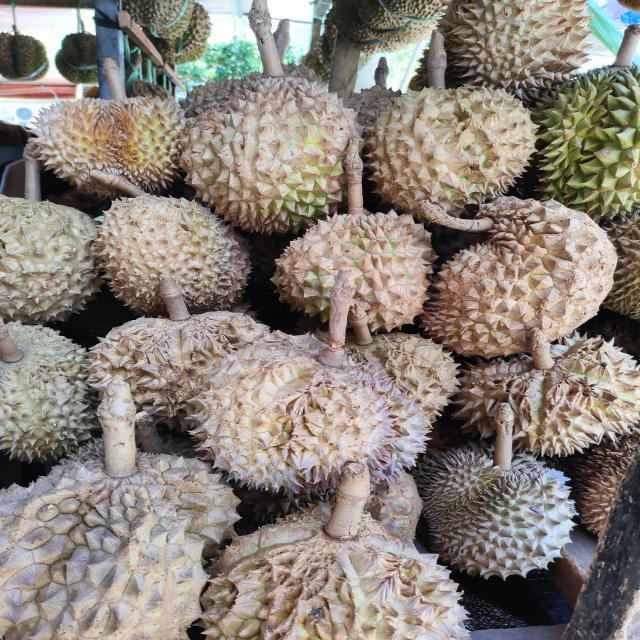mature: (189, 329, 436, 492), (417, 197, 620, 359), (179, 77, 366, 238), (356, 81, 542, 226), (448, 325, 640, 458), (413, 441, 582, 582), (93, 189, 252, 316), (24, 95, 181, 198)
